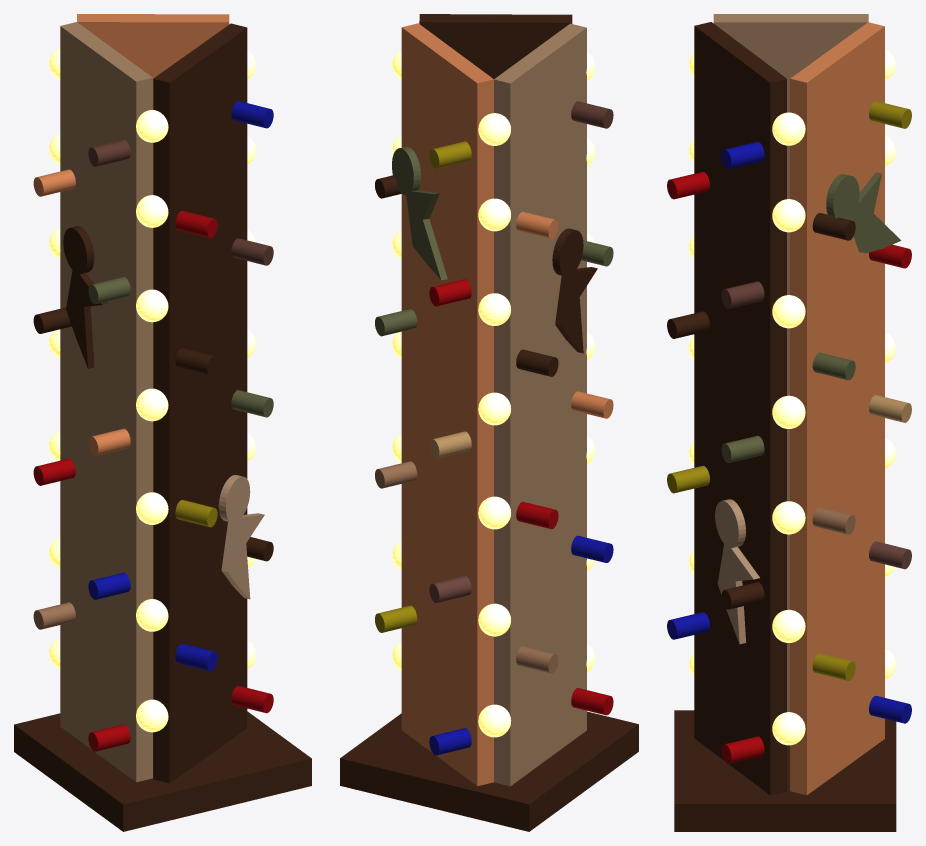
The model's file is asset.glb.
3 views of the same model, side by side, from view 1: azimuth 30°, elevation 25°; view 2: azimuth 150°, elevation 25°; view 3: azimuth 270°, elevation 25° (orthographic).
Visible parts, largest first — view 1: 平面.004, 平面, 平面.001, 平面.003, 立方体.002, 立方体, 円柱.029, 円柱.006, 球.004, 球.010, 球.016, 球.007 (+20 smaller); view 2: 平面.003, 平面, 平面.001, 平面.004, 立方体.001, 立方体, 円柱.006, 円柱.028, 球.005, 球.014, 球.011, 球.020 (+20 smaller); view 3: 平面.003, 平面.004, 平面.001, 平面, 立方体.001, 立方体.002, 円柱.028, 円柱.029, 球.018, 球.006, 球.009, 球.012 (+21 smaller).
Boxes of the visible parts, box(x1,y1,x2,y2) form: 平面.004: box(153, 23, 247, 783); 平面: box(60, 22, 152, 782); 平面.001: box(14, 711, 311, 831); 平面.003: box(77, 14, 229, 699); 立方体.002: box(221, 513, 264, 599); 立方体: box(66, 270, 108, 368); 円柱.029: box(218, 475, 250, 522); 円柱.006: box(63, 226, 94, 274); 球.004: box(136, 195, 168, 227); 球.010: box(136, 388, 168, 421); 球.016: box(136, 599, 168, 631); 球.007: box(136, 289, 168, 322); 平面.003: box(401, 23, 493, 786); 平面: box(494, 23, 586, 786); 平面.001: box(340, 711, 638, 831); 平面.004: box(419, 14, 572, 78); 立方体.001: box(406, 190, 447, 280); 立方体: box(555, 267, 597, 353); 円柱.006: box(552, 228, 583, 276); 円柱.028: box(392, 147, 421, 195); 球.005: box(478, 198, 510, 231); 球.014: box(478, 496, 510, 529); 球.011: box(478, 392, 510, 425); 球.020: box(478, 704, 511, 737); 平面.003: box(790, 22, 884, 795); 平面.004: box(694, 22, 786, 795); 平面.001: box(674, 710, 896, 831); 平面: box(713, 14, 868, 712); 立方体.001: box(850, 172, 901, 253); 立方体.002: box(717, 544, 759, 644); 円柱.028: box(826, 174, 859, 219); 円柱.029: box(715, 499, 745, 548); 球.018: box(772, 609, 805, 642); 球.006: box(772, 199, 805, 232); 球.009: box(772, 295, 805, 328); 球.012: box(772, 395, 805, 428).
Size of the model in its own units: 13.27 by 48.96 by 14.67.
